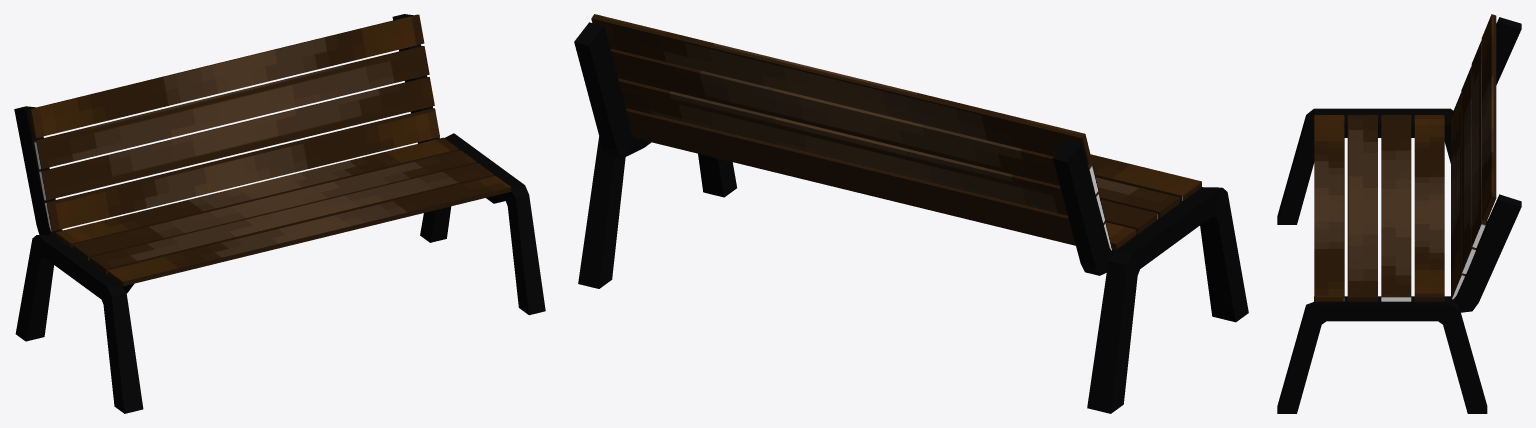
Rendered from benchtxt.glb.
3 renders of one model, left to right at view 1: azimuth 30°, elevation 25°; view 2: azimuth 150°, elevation 25°; view 3: azimuth 270°, elevation 25°, orthographic. The views are drawn at different scales.
Visible parts, largest first — view 1: Cube.004, Cube, Cylinder.002; view 2: Cube.004, Cylinder.002, Cube; view 3: Cube, Cylinder.002, Cube.004.
Boxes of the visible parts, box(x1,y1,x2,y2) form: Cube.004: box(28, 14, 439, 231); Cube: box(55, 137, 511, 286); Cylinder.002: box(14, 14, 545, 413); Cube.004: box(591, 14, 1112, 250); Cylinder.002: box(574, 22, 1248, 413); Cube: box(1090, 154, 1201, 249); Cube: box(1314, 115, 1444, 301); Cylinder.002: box(1277, 17, 1521, 413); Cube.004: box(1451, 14, 1496, 299).
Size of the model in its own units: 16.84 by 8.36 by 8.79.
3 materials, 2 textured.
